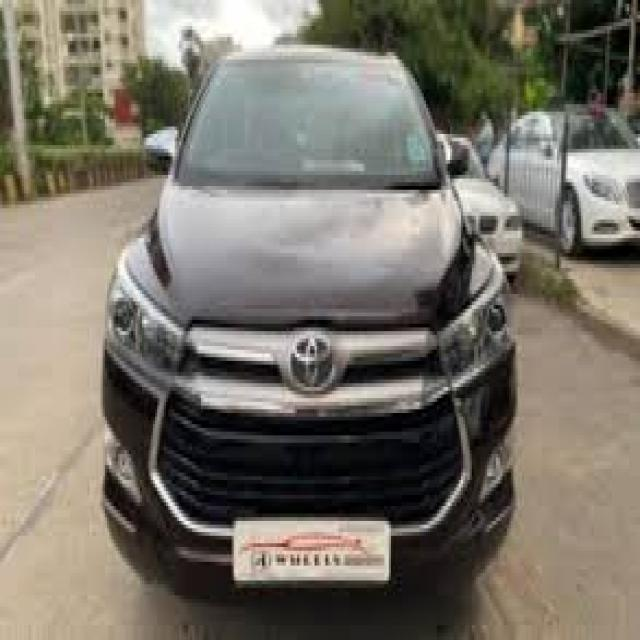light_vehicle: (102, 43, 517, 610)
